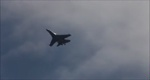maybay_muctieu: (43, 27, 73, 48)
